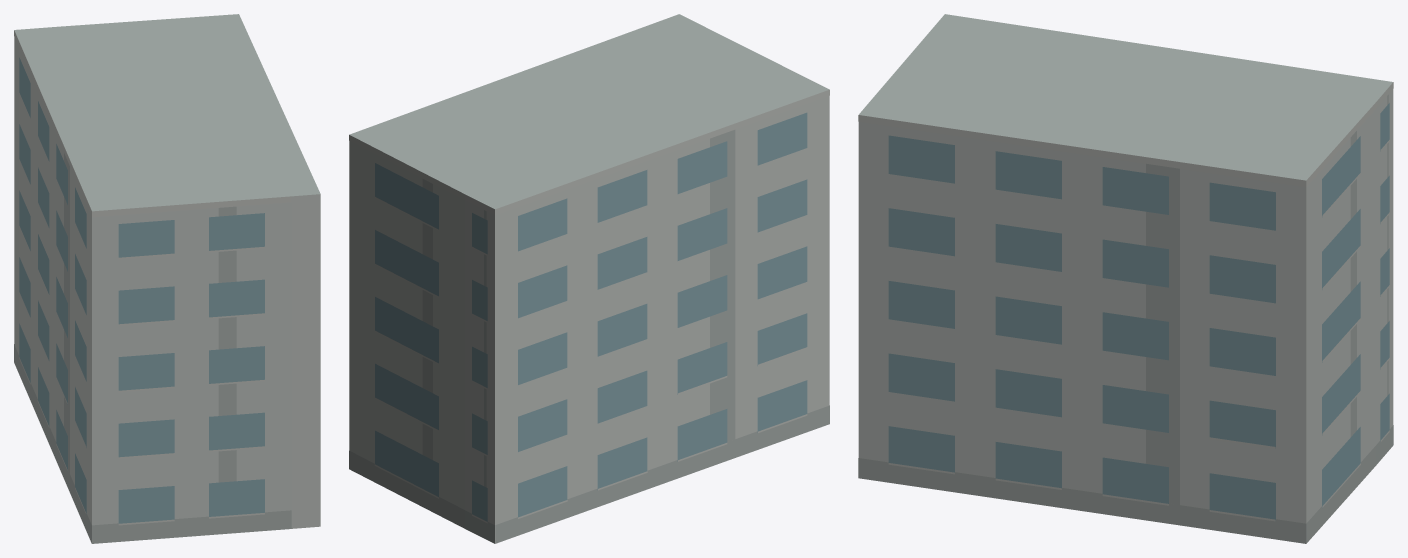
Rendered from survey-upis-32933988.glb.
3 views of the same model, side by side, from view 1: azimuth 30°, elevation 25°; view 2: azimuth 150°, elevation 25°; view 3: azimuth 270°, elevation 25° (orthographic). The views are drawn at different scales.
Parts seen in each view (by area): view 1: survey-upis-32933988.tmp; view 2: survey-upis-32933988.tmp; view 3: survey-upis-32933988.tmp.
Boxes of the visible parts, x1,y1,x2,y2 form: survey-upis-32933988.tmp: (14,14,320,543); survey-upis-32933988.tmp: (349,14,829,543); survey-upis-32933988.tmp: (858,14,1393,543).
Size of the model in its own units: 13.09 by 13.3 by 17.75.
